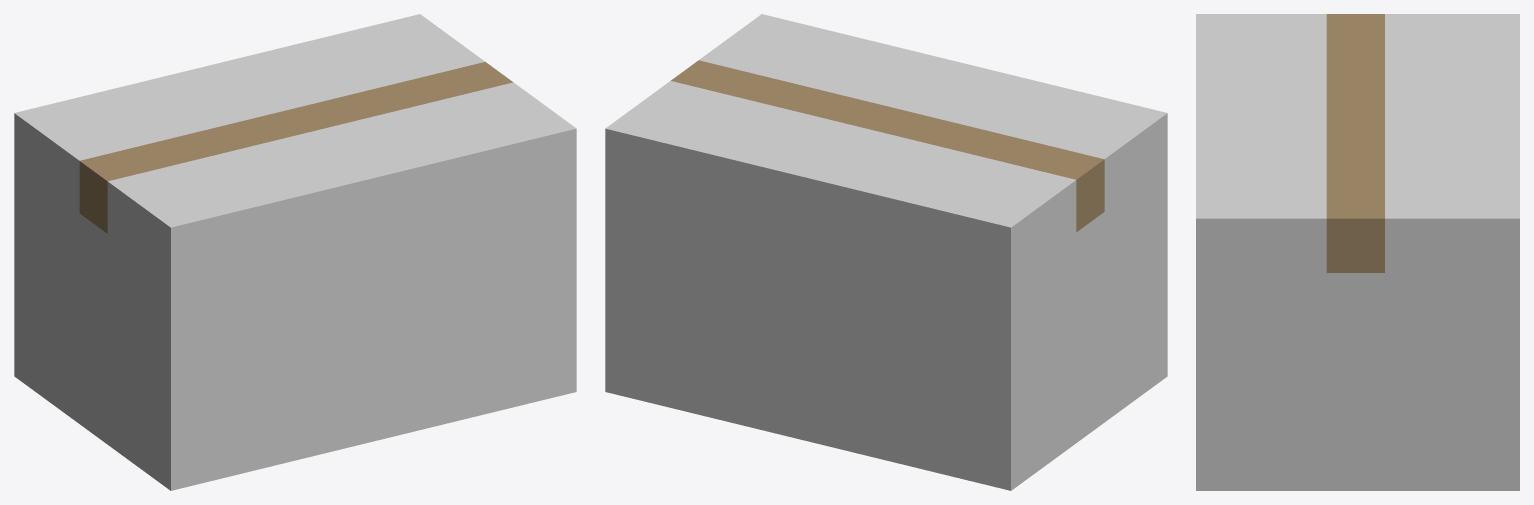
The model's file is cardboard_box_variation_asset.fbx.
3 renders of one model, left to right at view 1: azimuth 30°, elevation 25°; view 2: azimuth 150°, elevation 25°; view 3: azimuth 270°, elevation 25°, orthographic. The views are drawn at different scales.
Parts seen in each view (by area): view 1: cardboard_box; view 2: cardboard_box; view 3: cardboard_box.
Boxes of the visible parts, x1,y1,x2,y2 form: cardboard_box: [14, 14, 576, 490]; cardboard_box: [605, 14, 1167, 490]; cardboard_box: [1196, 14, 1519, 490].
Bounding box in the file's own units: 270 × 167 × 180.
